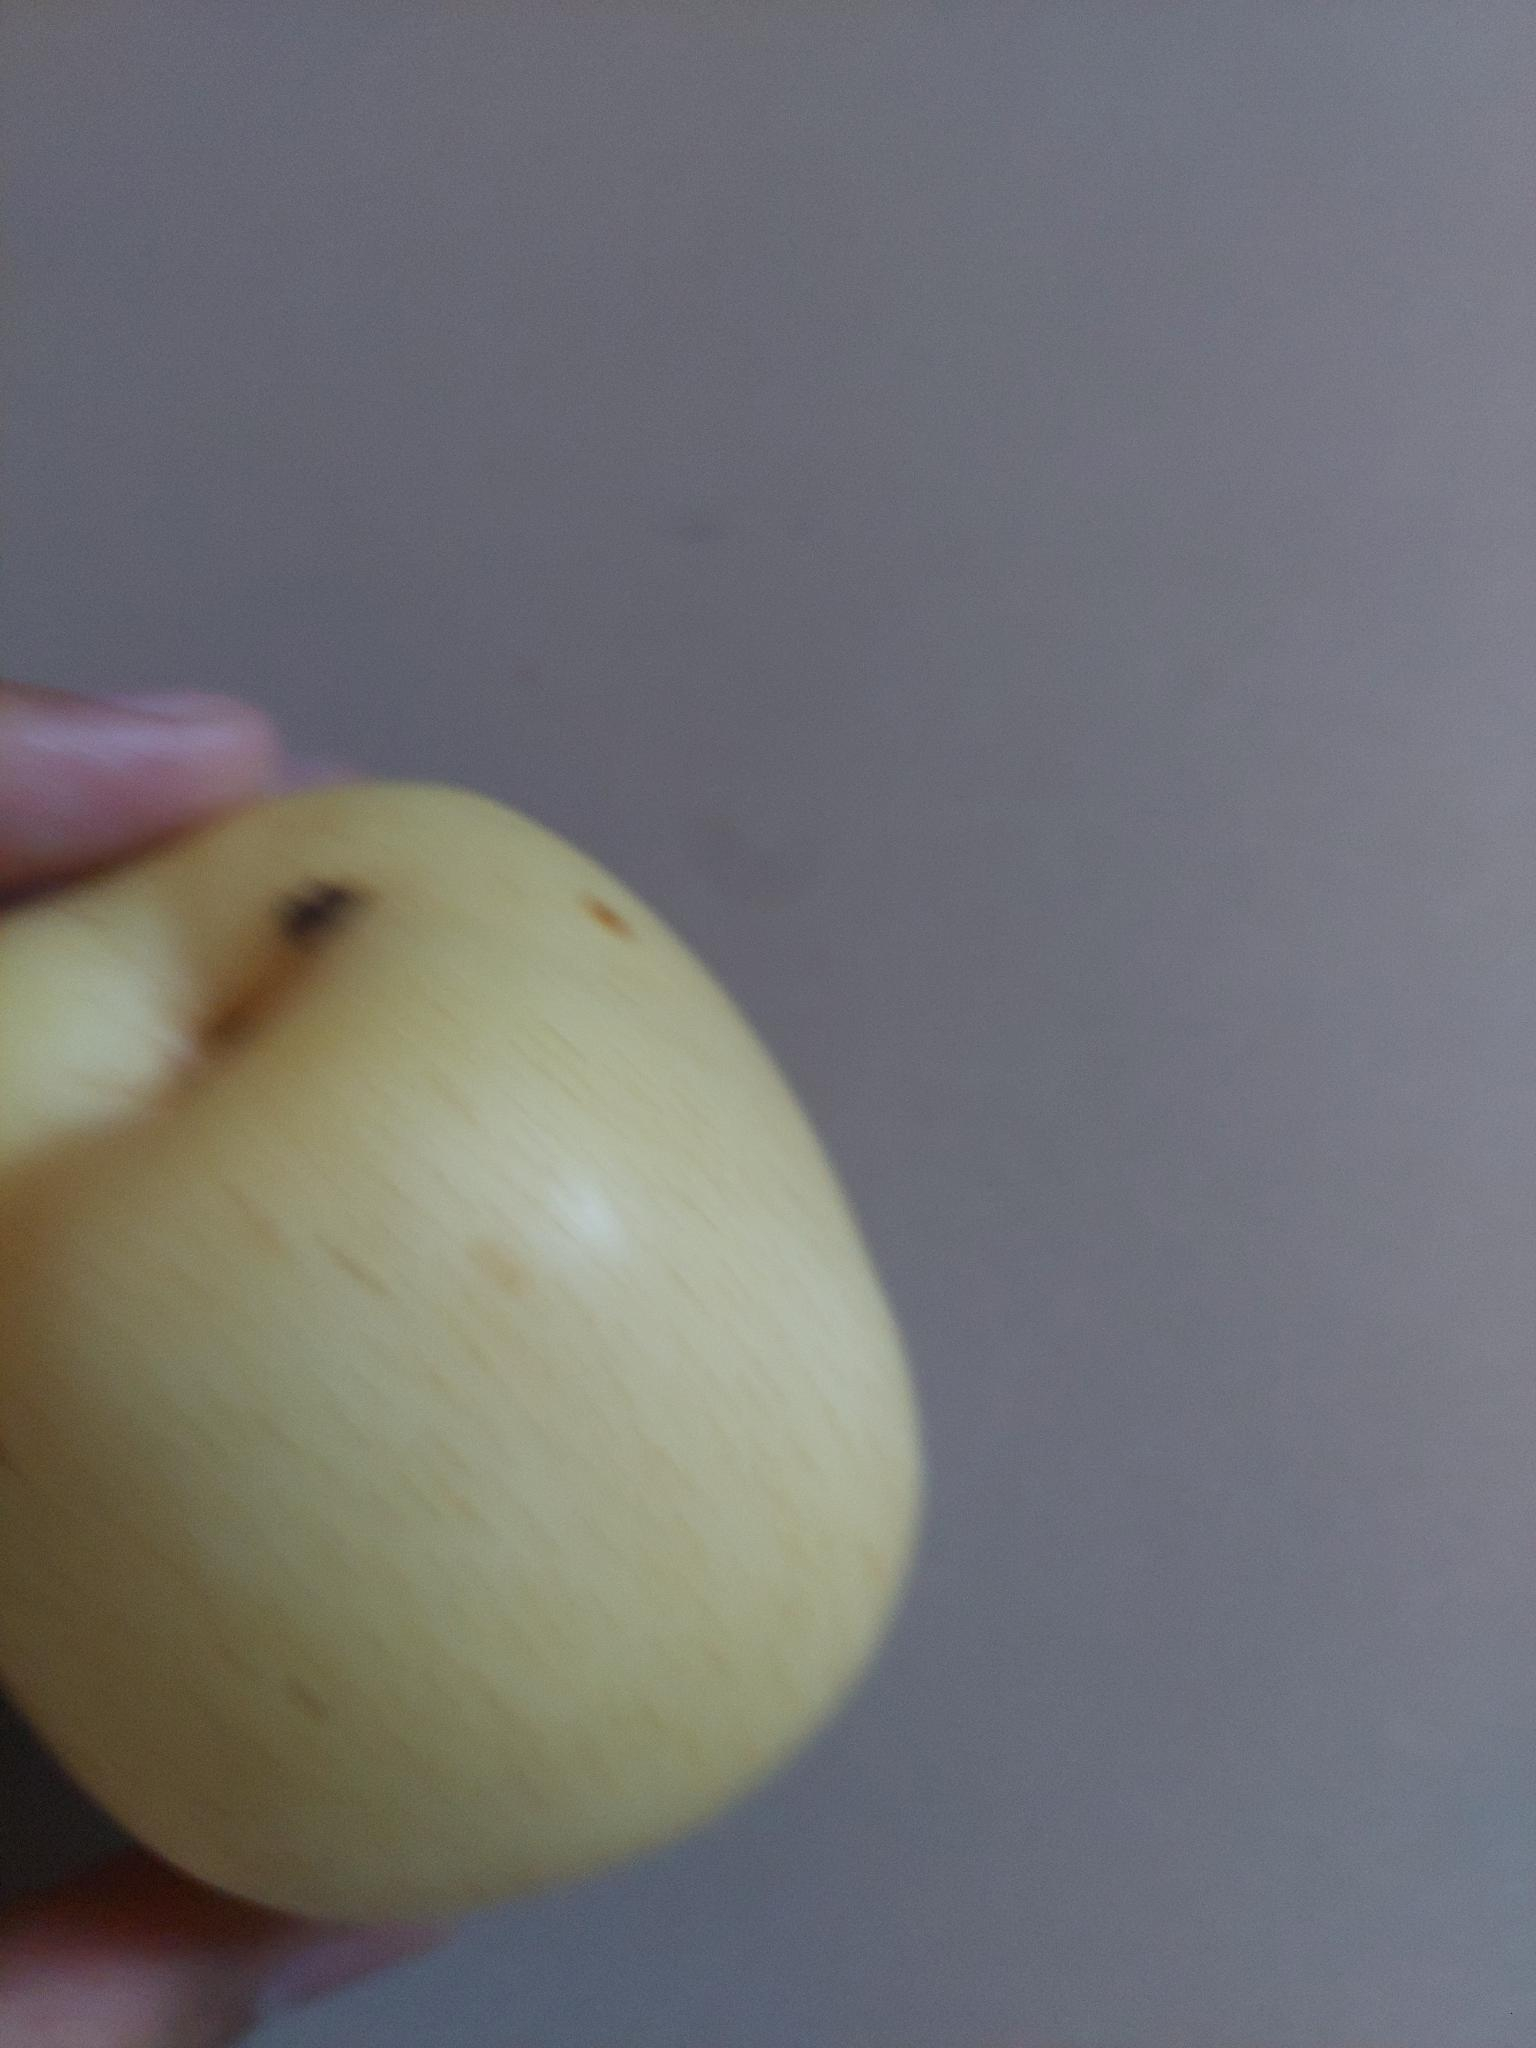Good Pear: (0, 776, 926, 1921)
